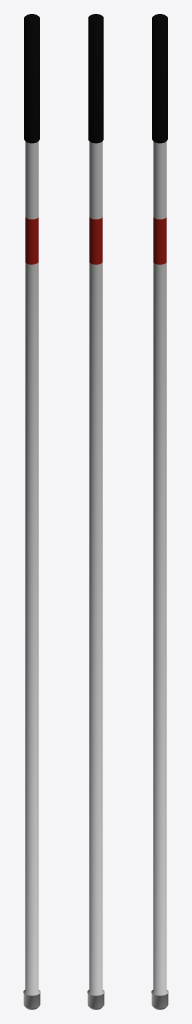
Rendered from bland.fbx.
The picture shows the model from 3 angles, left to right: view 1: azimuth 90°, elevation 25°; view 2: azimuth 150°, elevation 25°; view 3: azimuth 270°, elevation 25°; orthographic projection.
Visible parts, largest first — view 1: Cone001; view 2: Cone001; view 3: Cone001.
Part boxes in pixels (<box>): Cone001: <box>23,14,40,1009</box>; Cone001: <box>87,14,104,1009</box>; Cone001: <box>151,14,168,1009</box>.
Bounding box in the file's own units: 1.31 × 81.62 × 1.31.
